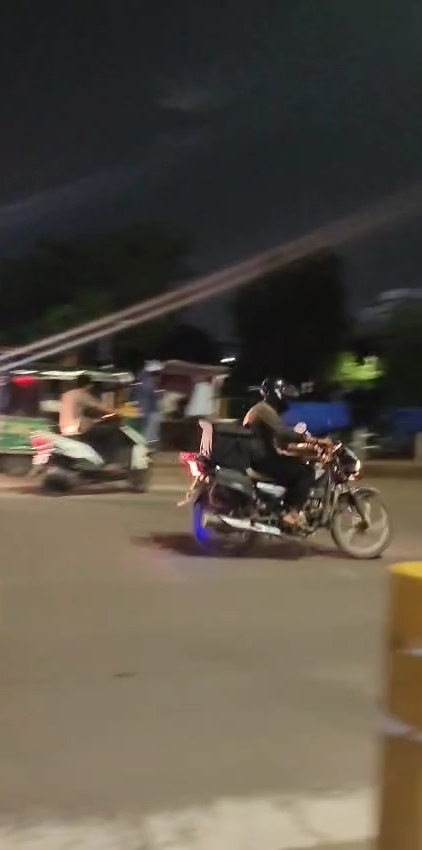BikeWithRider: (177, 370, 397, 561), (28, 369, 154, 496)
Helmet: (257, 372, 302, 415)
NoHelmet: (74, 372, 94, 395)
